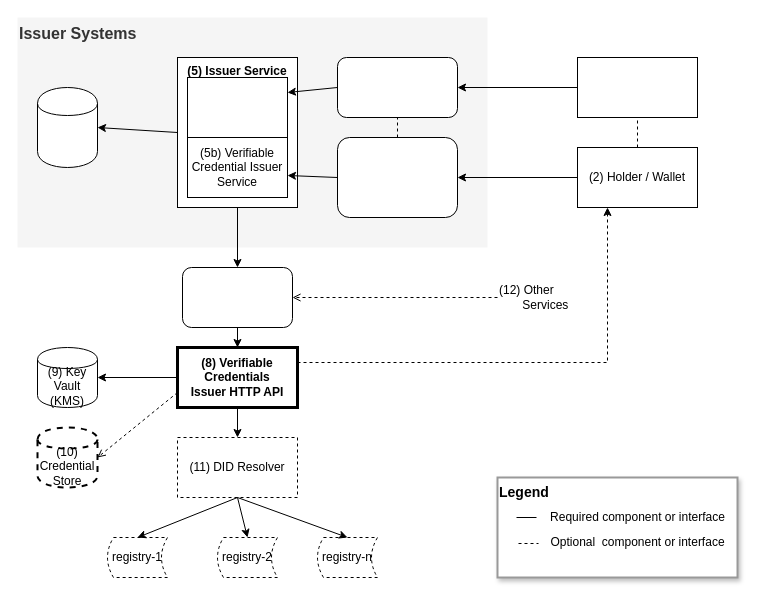
This 761x602 diagram has some shape labels left out. The centre of each missing label's shape, as x and y in pixels:
"(1) User Agent (Browser/App)" goes at point (637, 87).
"(3) Front End (UI)" goes at point (397, 87).
"(4) Holder Communication Interface (e.g. CHAPI, DIDComm, ...)" goes at point (397, 177).
"(5a) Application Services" goes at point (237, 107).
"(6) Subject Database" goes at point (67, 127).
"(7) Access Control Gateway" goes at point (237, 297).
